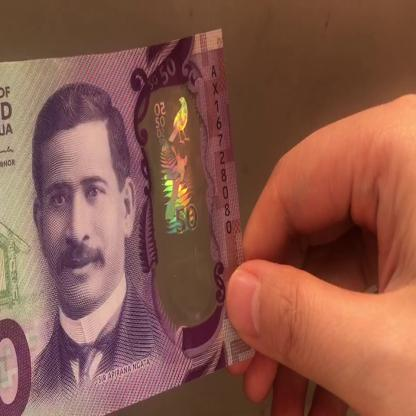50F: (149, 91, 210, 305)
